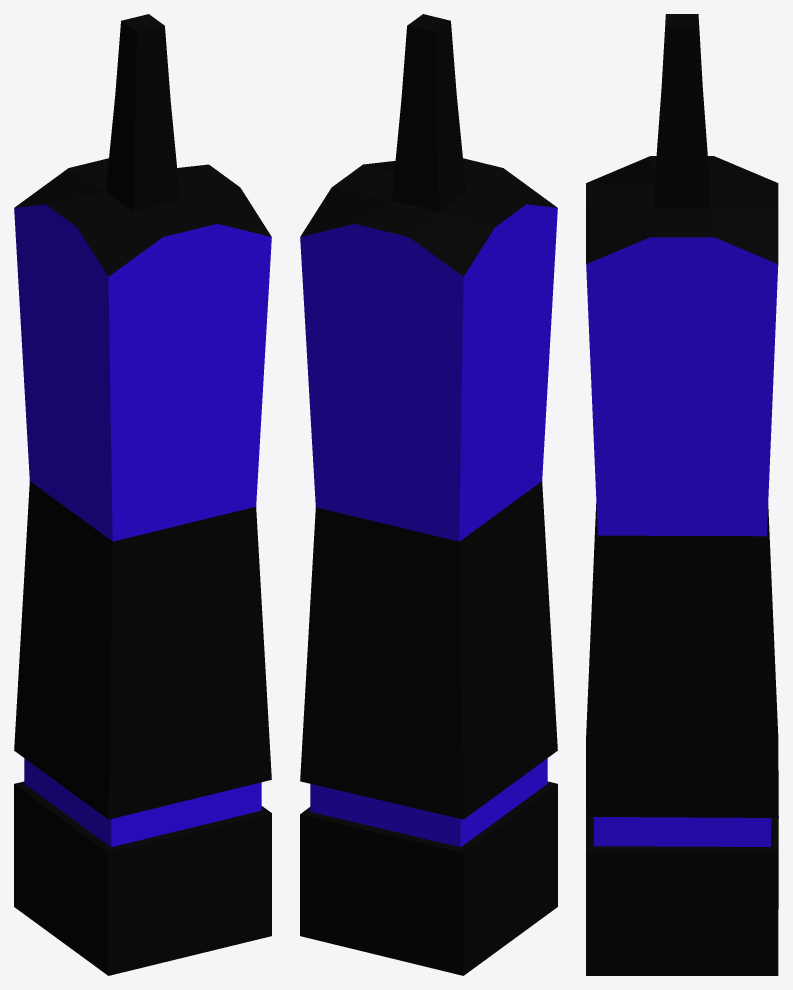
File: bottle5.fbx
The picture shows the model from 3 angles, left to right: view 1: azimuth 30°, elevation 25°; view 2: azimuth 150°, elevation 25°; view 3: azimuth 270°, elevation 25°; orthographic projection.
Visible parts, largest first — view 1: bottle3.002; view 2: bottle3.002; view 3: bottle3.002.
Part boxes in pixels (x1,y1,x2,y2): bottle3.002: (14,14,271,975); bottle3.002: (300,14,557,975); bottle3.002: (586,14,778,975).
Bounding box in the file's own units: 0.0178 × 0.0935 × 0.0178.
